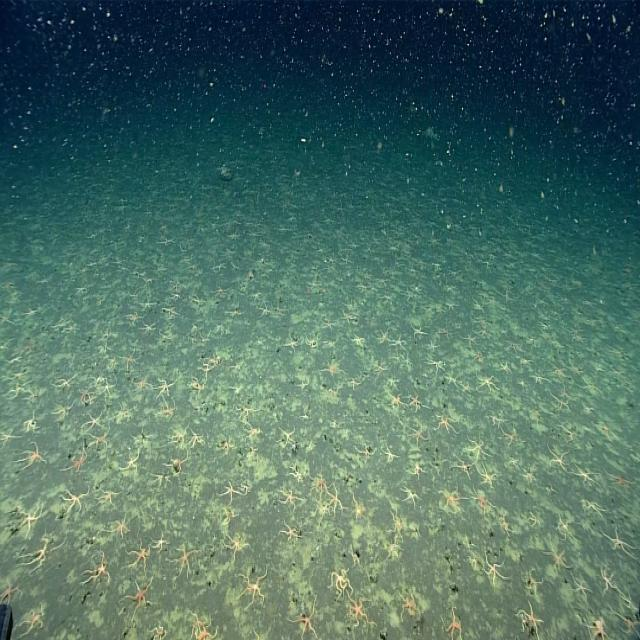brittle-stars: (604, 523, 635, 561), (238, 568, 268, 607), (127, 578, 153, 615), (23, 535, 51, 569), (294, 599, 317, 640), (518, 600, 542, 638), (544, 536, 569, 570), (86, 552, 110, 585), (19, 501, 43, 534), (62, 486, 89, 514), (485, 552, 507, 586), (20, 440, 42, 473), (330, 566, 353, 597), (21, 605, 45, 634), (174, 544, 196, 575), (349, 595, 368, 630), (129, 540, 150, 570), (444, 609, 464, 640), (225, 533, 248, 558), (587, 614, 609, 640), (618, 614, 640, 640), (548, 446, 568, 474), (108, 513, 130, 538), (441, 485, 463, 510), (390, 507, 407, 539), (470, 434, 489, 462), (67, 447, 87, 473), (121, 446, 140, 473), (400, 590, 419, 617), (473, 490, 492, 517), (88, 427, 109, 451), (114, 402, 135, 426), (0, 577, 19, 603), (606, 471, 630, 491), (435, 413, 457, 434), (158, 397, 176, 422), (351, 492, 366, 522), (476, 462, 494, 487), (573, 463, 595, 483), (222, 480, 241, 503), (279, 518, 298, 541), (312, 469, 328, 496), (156, 376, 176, 397), (329, 482, 343, 512), (476, 371, 496, 392), (402, 484, 420, 507), (382, 442, 400, 465), (280, 487, 297, 511), (572, 574, 588, 599), (620, 591, 638, 613), (601, 571, 617, 595), (132, 372, 150, 393), (453, 458, 472, 477), (154, 530, 169, 554), (99, 488, 119, 506), (84, 410, 102, 430), (54, 374, 74, 392), (526, 568, 541, 592), (152, 619, 169, 640), (197, 620, 214, 640), (411, 424, 426, 446), (427, 356, 444, 375), (24, 411, 38, 434), (0, 426, 15, 447), (123, 347, 138, 368), (324, 359, 342, 376), (10, 365, 28, 382), (172, 427, 188, 446), (356, 444, 375, 460), (502, 428, 518, 447), (403, 284, 419, 303), (411, 321, 426, 341), (439, 322, 454, 342), (222, 506, 236, 527), (98, 378, 115, 395), (341, 310, 358, 327), (281, 425, 296, 444), (316, 500, 330, 520), (500, 512, 512, 535), (190, 429, 206, 446), (9, 382, 26, 398), (444, 370, 458, 389), (200, 360, 213, 380), (389, 391, 403, 409), (190, 376, 203, 395), (164, 304, 179, 320), (213, 284, 228, 300), (391, 333, 406, 349), (285, 332, 299, 349), (409, 394, 422, 412), (220, 437, 234, 453), (141, 294, 155, 310), (351, 332, 365, 348), (471, 348, 484, 365), (374, 359, 387, 376), (142, 318, 155, 335), (411, 460, 423, 478), (322, 317, 336, 332), (192, 294, 206, 309), (532, 369, 544, 386), (200, 330, 212, 347), (259, 300, 270, 318), (553, 366, 568, 379), (298, 377, 310, 391), (350, 376, 361, 391), (378, 328, 389, 343), (126, 310, 139, 322), (232, 358, 242, 373), (426, 338, 436, 352), (170, 281, 180, 292)
